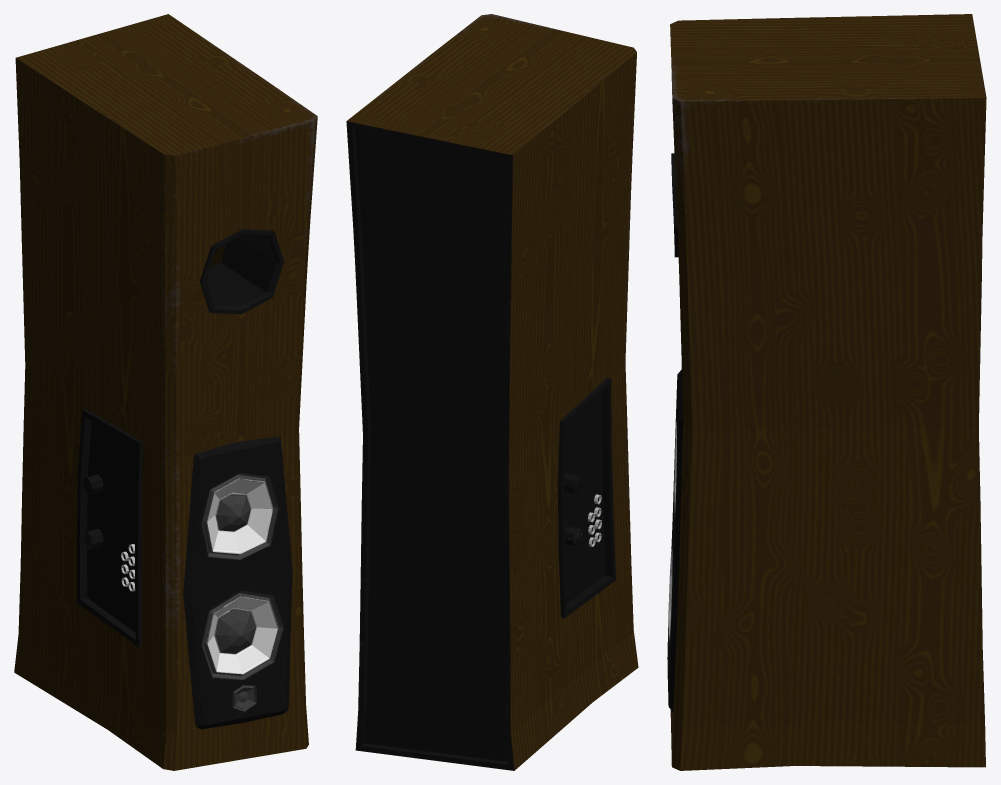
File: rightSpeaker.glb
3 renders of one model, left to right at view 1: azimuth 30°, elevation 25°; view 2: azimuth 150°, elevation 25°; view 3: azimuth 270°, elevation 25°, orthographic. The views are drawn at different scales.
Parts seen in each view (by area): view 1: Object_2; view 2: Object_2; view 3: Object_2.
Part boxes in pixels (x1=…): Object_2: x1=14, y1=14, x2=317, y2=770; Object_2: x1=346, y1=14, x2=638, y2=770; Object_2: x1=667, y1=14, x2=986, y2=770.
Size of the model in its own units: 0.8873 by 3.16 by 1.35.
Materials: 1 (1 with a texture image).
